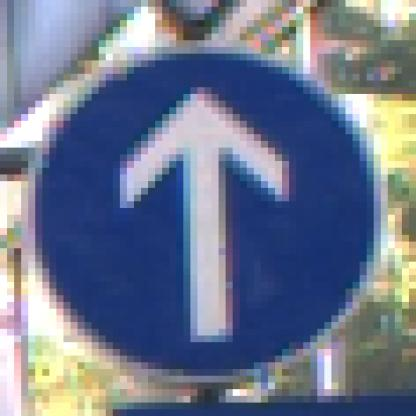AheadOnly: (36, 35, 382, 377)
